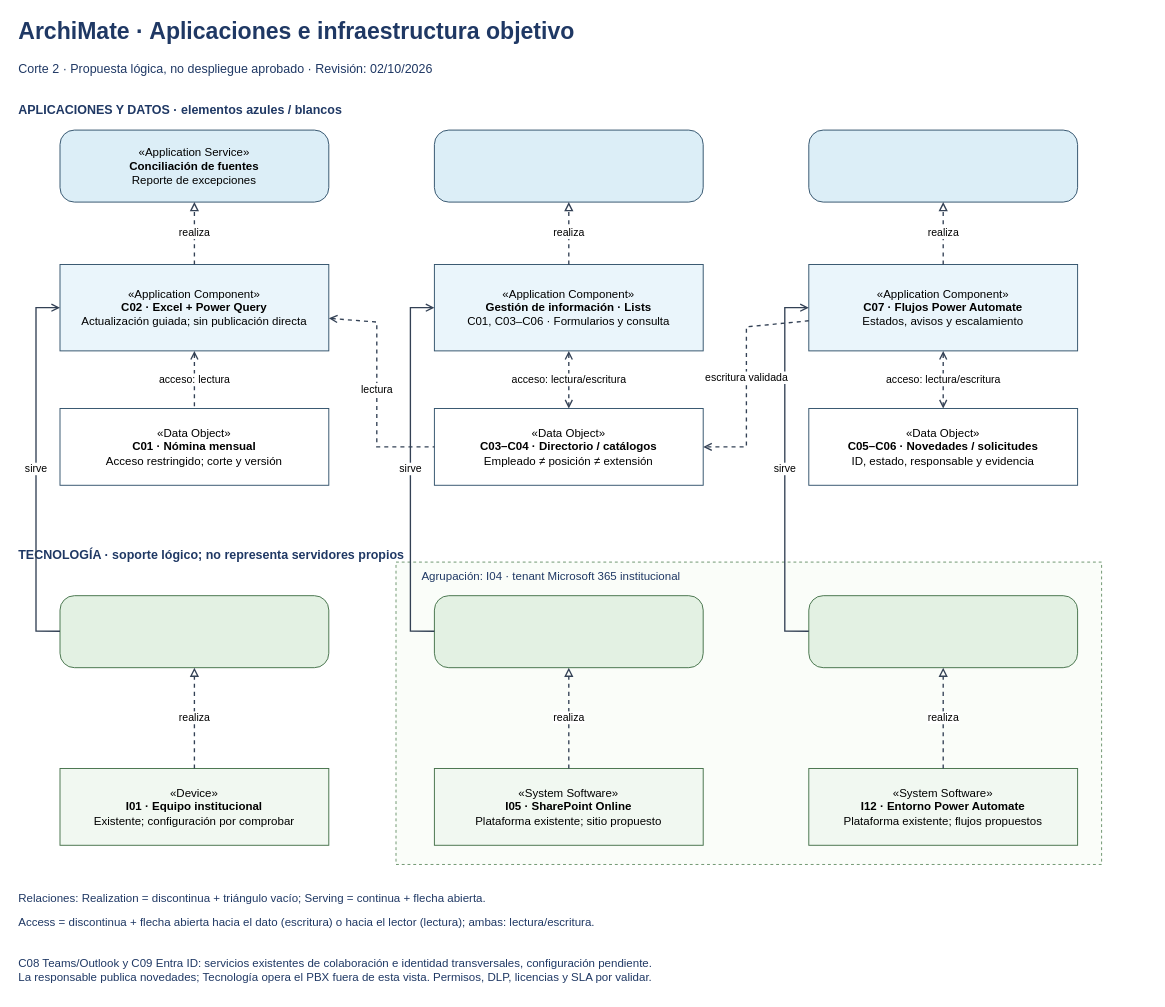
The diagram is 1165 pixels wide and 1007 high, and some of its shapes have lost their labels. Here are the shapes that lost their labels. From the top down, the centre of each, then its label:
At point 568,165: "«Application Service» Consulta del directorio Información operativa vigente".
At point 943,165: "«Application Service» Coordinación con Tecnología Notificación y retorno".
At point 194,631: "«Technology Service» Procesamiento de conciliación Equipo / Excel institucional".
At point 568,631: "«Technology Service» Almacenamiento y versiones Sitio / biblioteca / listas".
At point 943,631: "«Technology Service» Ejecución de flujos Conexiones estándar por validar".
